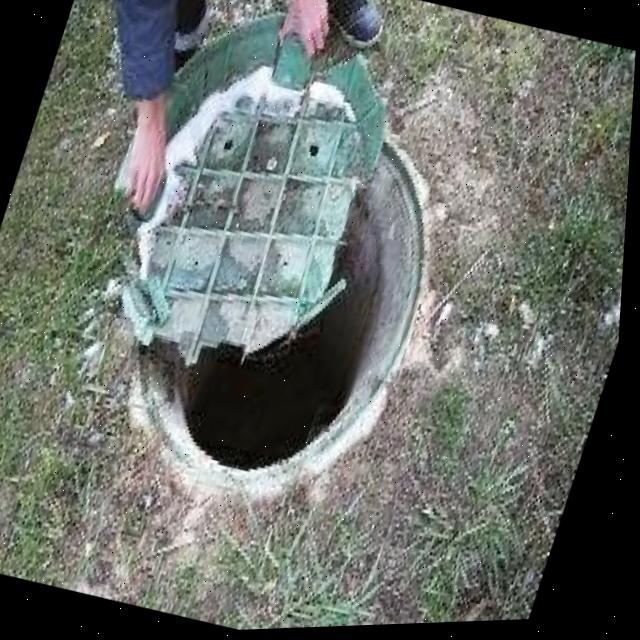manhole: (34, 0, 506, 530)
